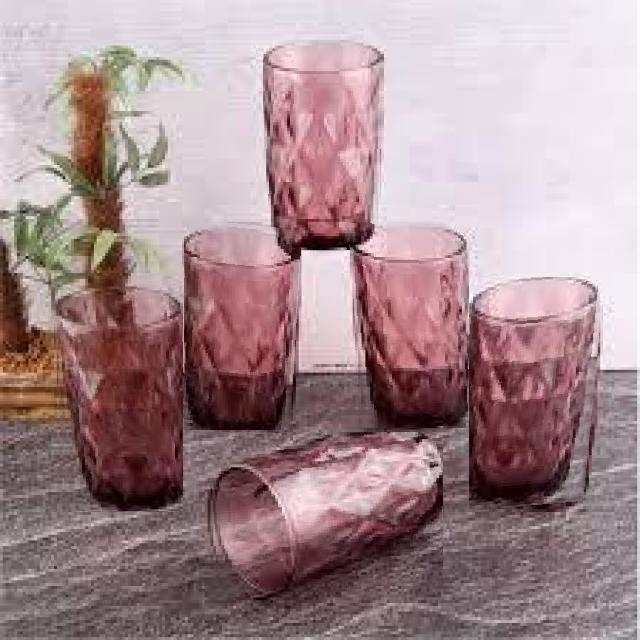Glass: (207, 432, 443, 598), (469, 277, 606, 514), (52, 279, 183, 511), (264, 36, 384, 250), (184, 218, 302, 430), (350, 223, 470, 428)
